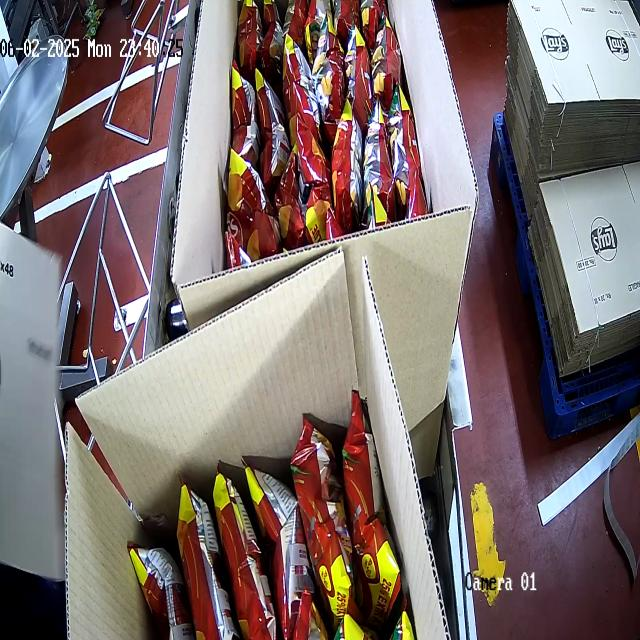MASALA: (120, 421, 414, 640), (225, 0, 440, 265)
